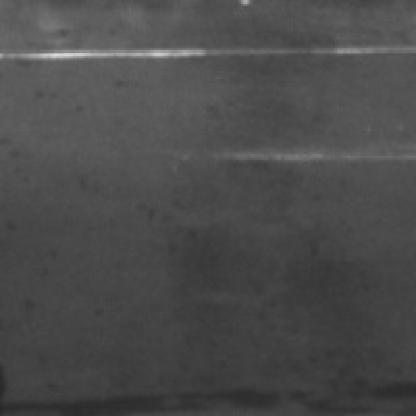scratches: (6, 36, 412, 62), (212, 144, 416, 166)
